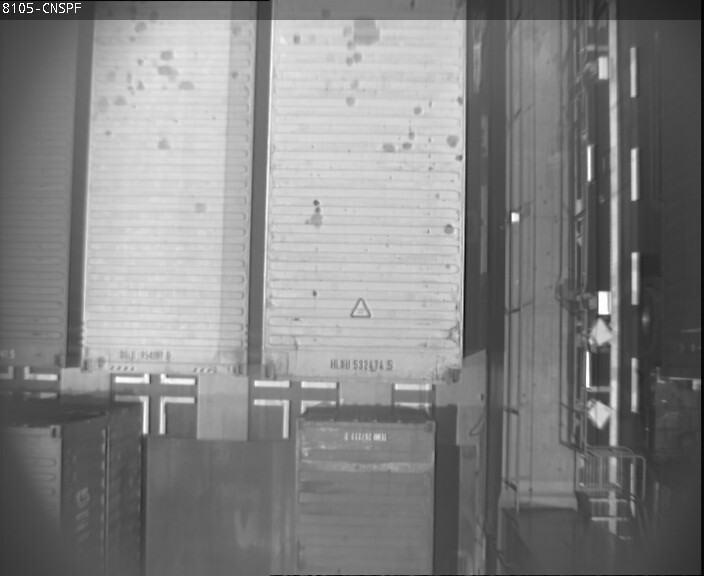groundmarker_1: (111, 394, 195, 437), (253, 396, 336, 438)
